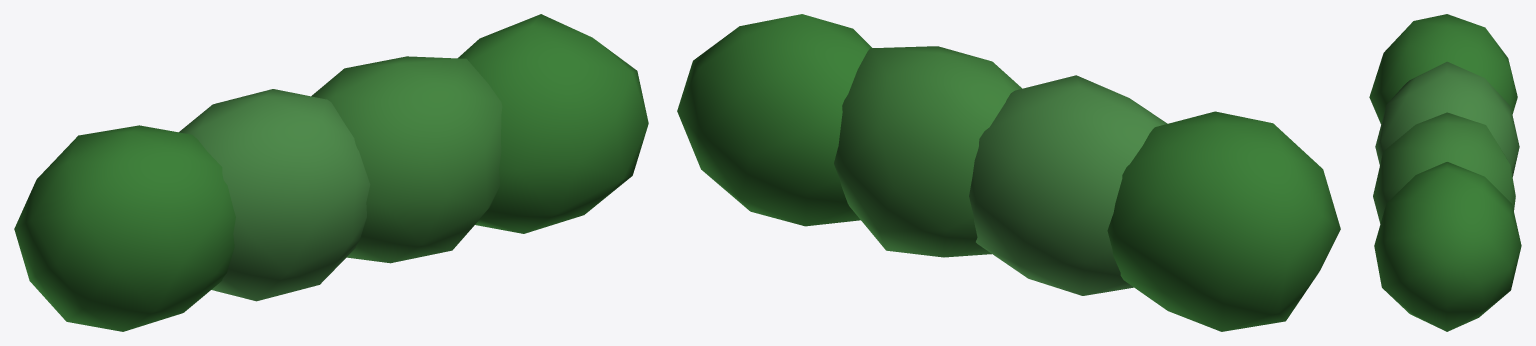
Rendered from hedge.fbx.
3 views of the same model, side by side, from view 1: azimuth 30°, elevation 25°; view 2: azimuth 150°, elevation 25°; view 3: azimuth 270°, elevation 25° (orthographic). The views are drawn at different scales.
Parts seen in each view (by area): view 1: hedge_leaves; view 2: hedge_leaves; view 3: hedge_leaves.
Boxes of the visible parts, x1=… form: hedge_leaves: x1=14, y1=14, x2=648, y2=331; hedge_leaves: x1=677, y1=14, x2=1340, y2=331; hedge_leaves: x1=1369, y1=14, x2=1521, y2=331.
Size of the model in its own units: 1.36 by 0.4275 by 0.3897.
